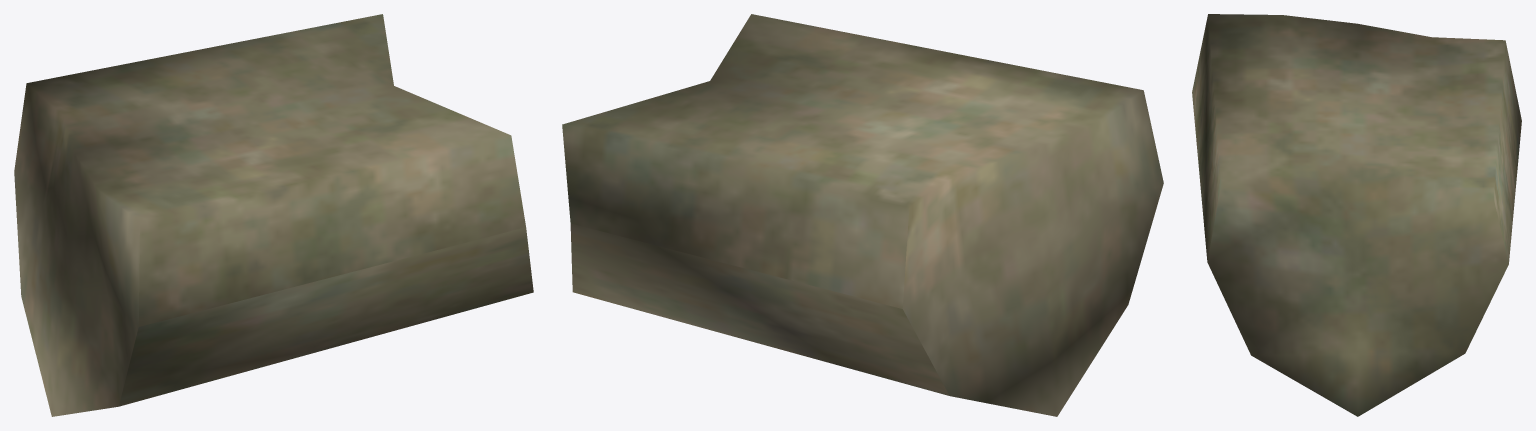
File: ANIMATEDINSTANCES_CAVE_BRIDGE_201__AI.fbx
The picture shows the model from 3 angles, left to right: view 1: azimuth 30°, elevation 25°; view 2: azimuth 150°, elevation 25°; view 3: azimuth 270°, elevation 25°; orthographic projection. The views are drawn at different scales.
Visible parts, largest first — view 1: ANIMATEDINSTANCES_CAVE_BRIDGE_201__AI; view 2: ANIMATEDINSTANCES_CAVE_BRIDGE_201__AI; view 3: ANIMATEDINSTANCES_CAVE_BRIDGE_201__AI.
Boxes of the visible parts, <box> form: ANIMATEDINSTANCES_CAVE_BRIDGE_201__AI: <box>14,14,533,416</box>; ANIMATEDINSTANCES_CAVE_BRIDGE_201__AI: <box>562,14,1163,416</box>; ANIMATEDINSTANCES_CAVE_BRIDGE_201__AI: <box>1192,14,1521,416</box>.
Bounding box in the file's own units: 11974 × 6359 × 8523.
1 material, 1 textured.
